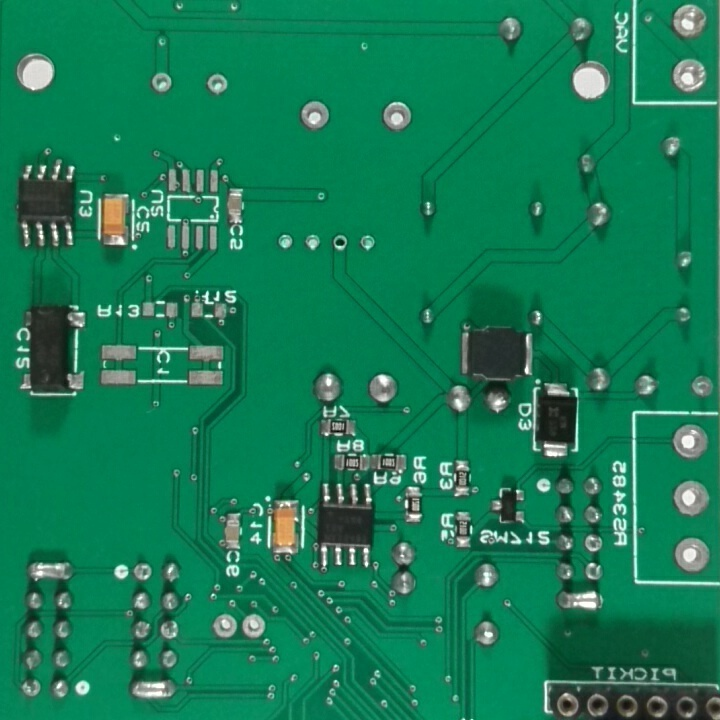F: (670, 532, 712, 579), (671, 475, 714, 518), (667, 421, 712, 460), (670, 54, 711, 96), (667, 1, 710, 40), (294, 96, 333, 132), (379, 100, 416, 136), (211, 609, 240, 641), (239, 612, 268, 643), (689, 372, 719, 400), (201, 69, 230, 96), (149, 69, 174, 95), (582, 531, 605, 558), (158, 617, 181, 641), (19, 676, 41, 701), (131, 560, 153, 584), (358, 233, 378, 255), (302, 232, 322, 253), (329, 235, 352, 252), (276, 232, 296, 251)
P: (553, 586, 606, 615), (125, 675, 178, 703), (22, 558, 77, 583)
